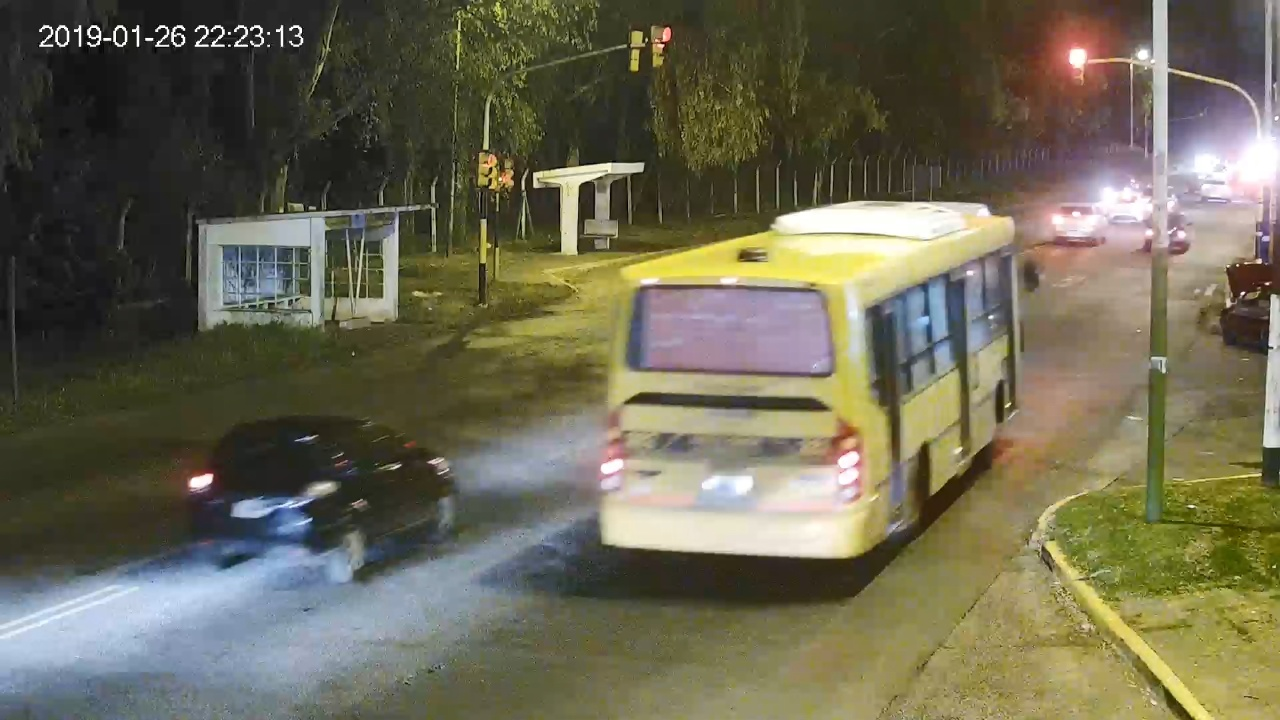bus: (599, 201, 1040, 564)
car: (189, 416, 459, 582)
